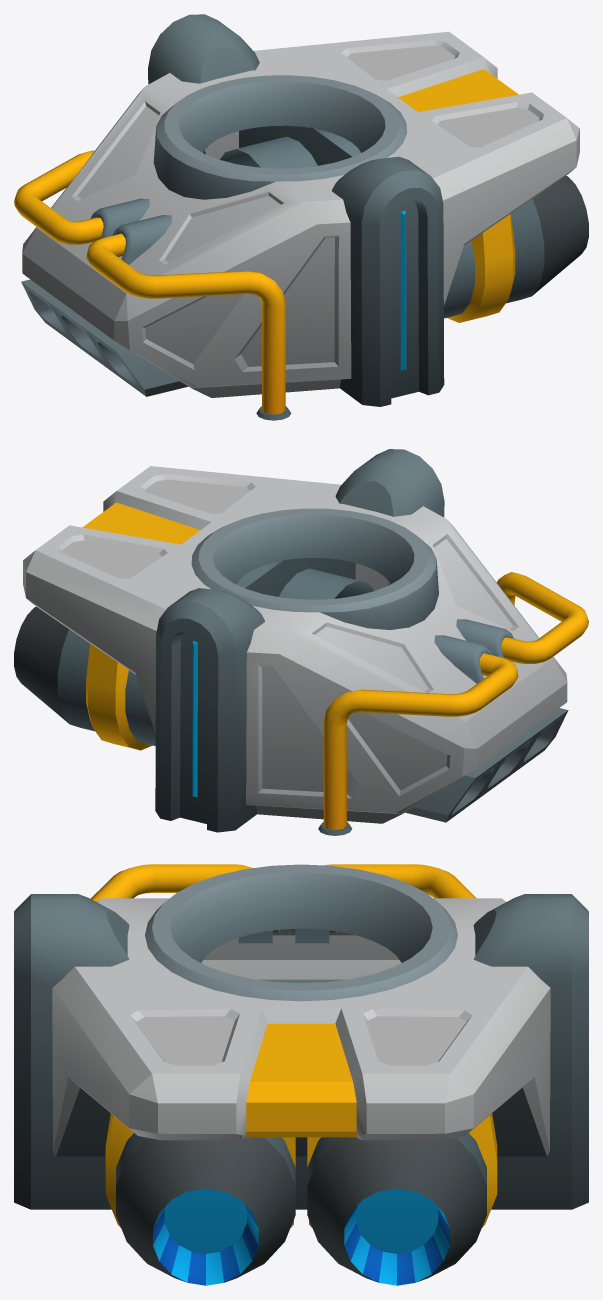
The model's file is Generator_011.fbx.
The picture shows the model from 3 angles, top to bottom: view 1: azimuth 30°, elevation 25°; view 2: azimuth 150°, elevation 25°; view 3: azimuth 270°, elevation 25°; orthographic projection. The views are drawn at different scales.
Parts seen in each view (by area): view 1: Generator_011; view 2: Generator_011; view 3: Generator_011.
Part boxes in pixels (bbox=[...]): Generator_011: bbox=[14, 14, 588, 420]; Generator_011: bbox=[14, 449, 588, 835]; Generator_011: bbox=[14, 864, 588, 1285].
Bounding box in the file's own units: 360 × 303 × 165.
